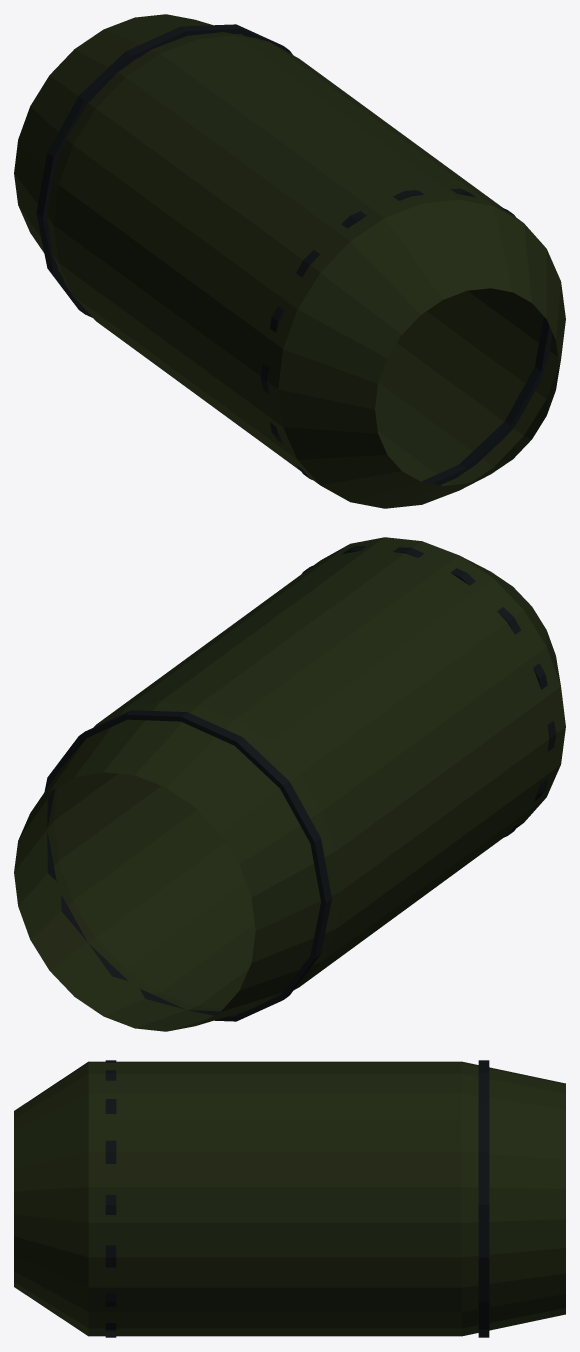
Rendered from Rocket57Sixteen__PodShell.obj.
The picture shows the model from 3 angles, top to bottom: view 1: azimuth 30°, elevation 25°; view 2: azimuth 150°, elevation 25°; view 3: azimuth 270°, elevation 25°; orthographic projection. The views are drawn at different scales.
Parts seen in each view (by area): view 1: Pod_aerodynamic_outer_shell, Identification_band.001, Identification_band; view 2: Pod_aerodynamic_outer_shell, Identification_band.001, Identification_band; view 3: Pod_aerodynamic_outer_shell, Identification_band.001, Identification_band.
Part boxes in pixels (box(x1,y1,x2,y2)): Pod_aerodynamic_outer_shell: box(14, 14, 565, 508); Identification_band.001: box(36, 24, 292, 317); Identification_band: box(261, 188, 552, 485); Pod_aerodynamic_outer_shell: box(14, 537, 565, 1031); Identification_band.001: box(44, 710, 331, 1021); Identification_band: box(302, 546, 556, 837); Pod_aerodynamic_outer_shell: box(14, 1061, 565, 1336); Identification_band.001: box(478, 1060, 489, 1337); Identification_band: box(105, 1060, 116, 1337).
Size of the model in its own units: 0.7444 by 0.7444 by 1.48.
